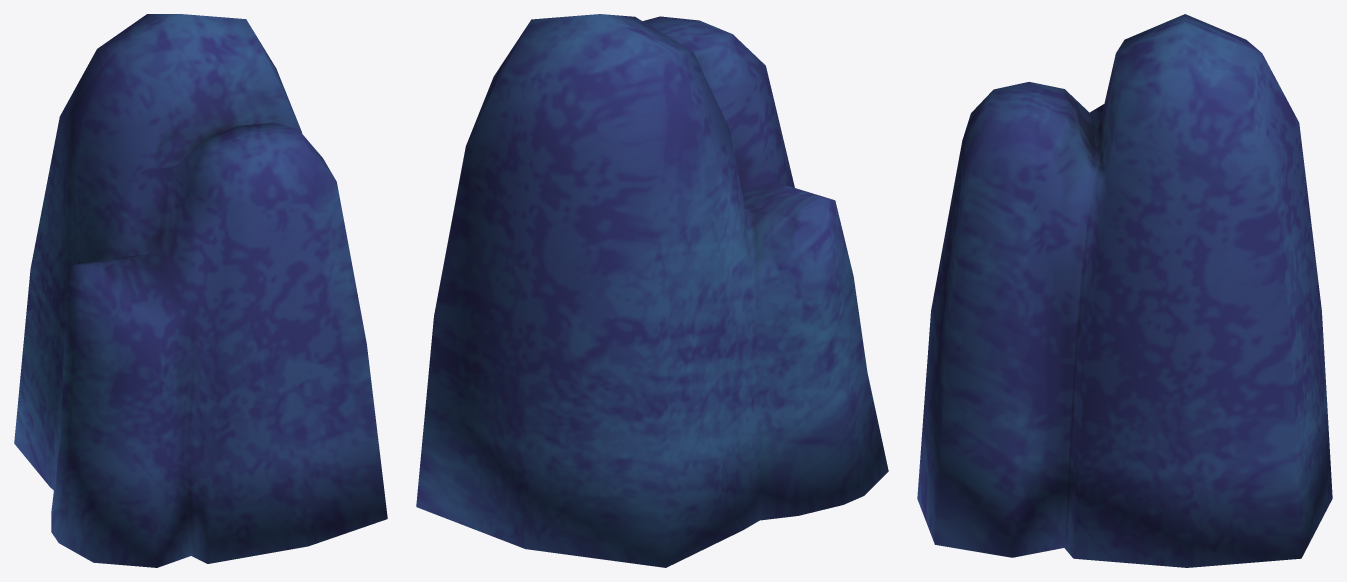
File: roca4.FBX
The picture shows the model from 3 angles, left to right: view 1: azimuth 30°, elevation 25°; view 2: azimuth 150°, elevation 25°; view 3: azimuth 270°, elevation 25°; orthographic projection. The views are drawn at different scales.
Visible parts, largest first — view 1: Roca4; view 2: Roca4; view 3: Roca4.
Boxes of the visible parts, x1=… form: Roca4: x1=14, y1=14, x2=387, y2=567; Roca4: x1=416, y1=14, x2=888, y2=567; Roca4: x1=917, y1=14, x2=1332, y2=567.
Size of the model in its own units: 94.36 by 100 by 126.
